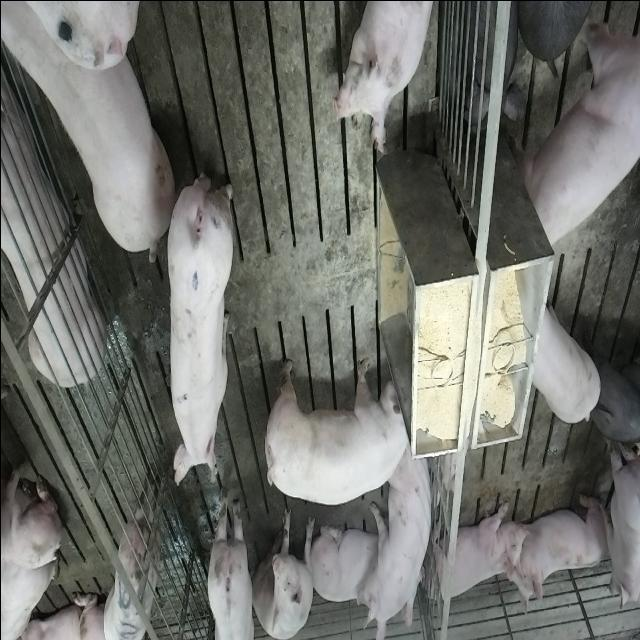Sitting: (357, 452, 436, 640), (252, 509, 316, 639)
Standing: (518, 9, 638, 250), (162, 160, 234, 486), (102, 486, 162, 638), (530, 299, 600, 425), (203, 484, 253, 638), (586, 326, 640, 451), (608, 438, 640, 615)
Sternal_lying: (0, 56, 103, 392), (332, 0, 437, 158), (510, 490, 612, 608), (424, 498, 524, 610), (310, 517, 382, 615)
